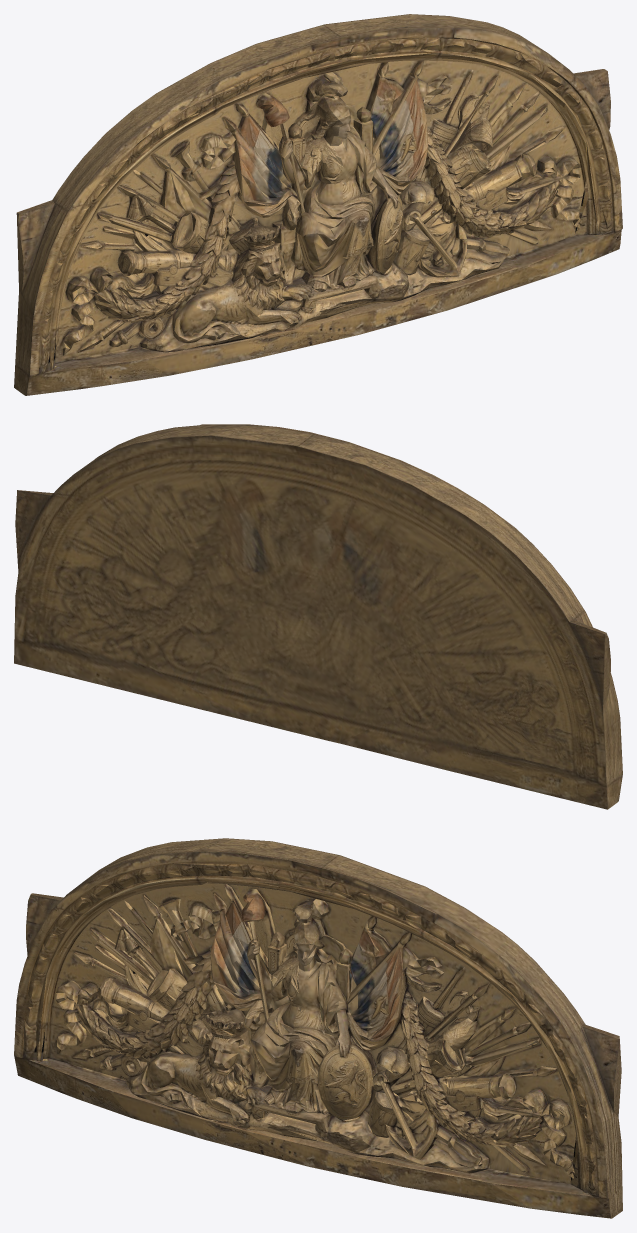
The model's file is taffrail_crest.glb.
The picture shows the model from 3 angles, top to bottom: view 1: azimuth 30°, elevation 25°; view 2: azimuth 150°, elevation 25°; view 3: azimuth 330°, elevation 25°; orthographic projection.
Visible parts, largest first — view 1: output_unwrapped; view 2: output_unwrapped; view 3: output_unwrapped.
Part boxes in pixels (<box>): output_unwrapped: <box>14,14,622,395</box>; output_unwrapped: <box>14,424,622,809</box>; output_unwrapped: <box>14,838,622,1218</box>.
Bounding box in the file's own units: 2.16 × 1 × 0.262.
1 material, 1 textured.
